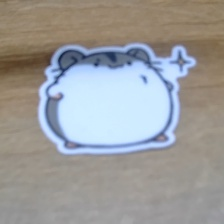mouse: (35, 42, 199, 158)
